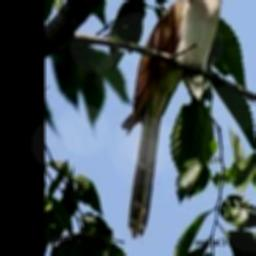Cuckoo: (122, 0, 241, 238)
